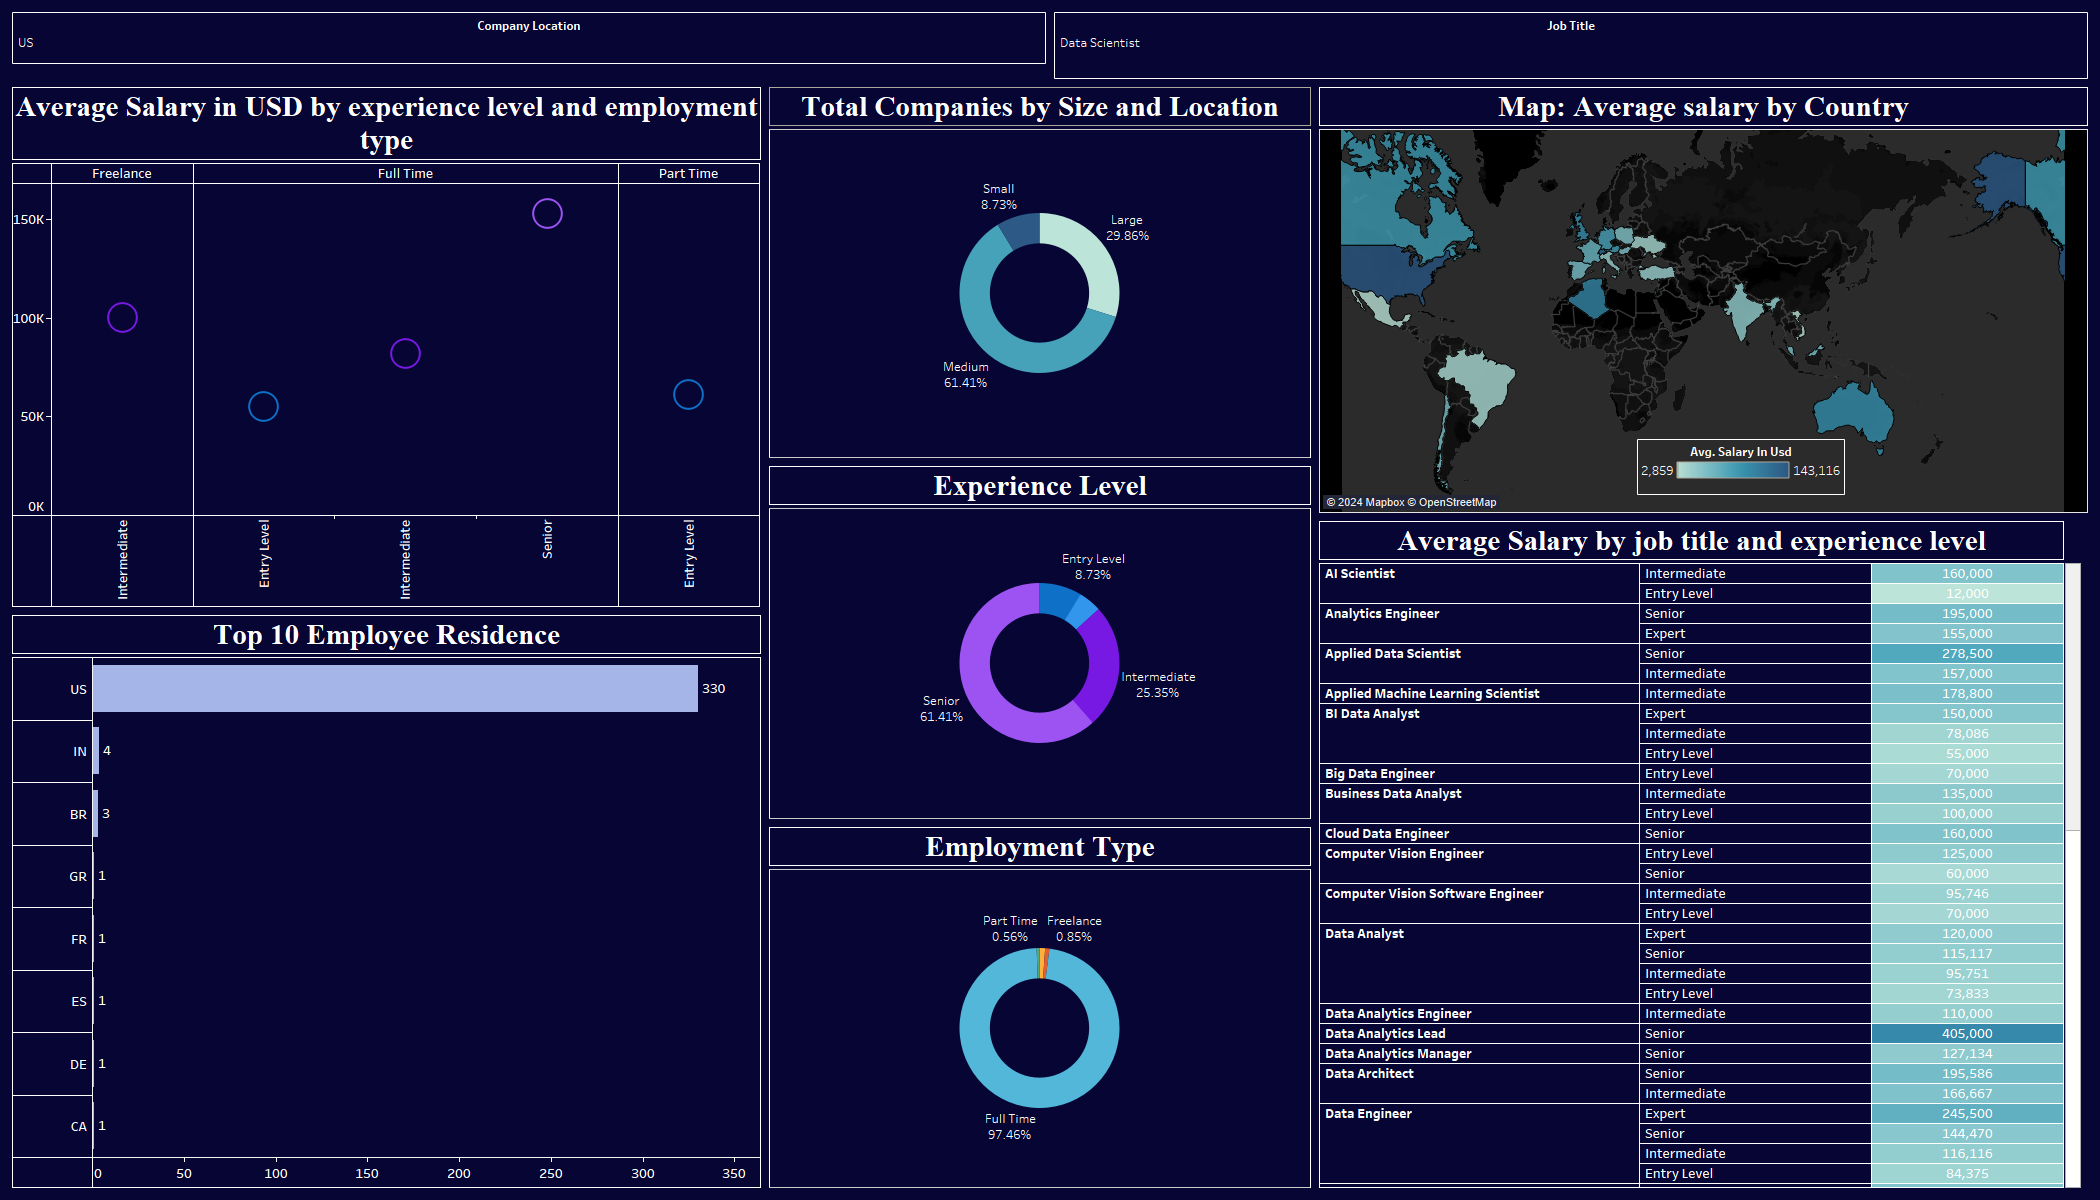

Layout of this report page (visuals, bound fields, positions):
{"tool":"tableau","page":{"name":"Dashboard 1","canvas":[2100,1200],"ordinal":0},"visuals":[{"type":"filter","title":"Total Companies by Size and Location","param":"[federated.1whmcna1xm0dt91dopcvz0w4l24t].[none:company_location:nk]","box":[8,8,1042,60]},{"type":"filter","title":"Map: Average salary by Country","param":"[federated.1whmcna1xm0dt91dopcvz0w4l24t].[none:job_title:nk]","box":[1050,8,1042,75]},{"type":"worksheet","title":"Average Salary in USD by experience level and employment type","mark":"Shape","rows":["salary_in_usd"],"cols":["employment_type","experience_level"],"box":[8,83,757,528]},{"type":"worksheet","title":"Total Companies by Size and Location","mark":"Pie","rows":["Calculation_501306945840168961","Calculation_501306945840168961"],"box":[765,83,550,379]},{"type":"worksheet","title":"Map: Average salary by Country","mark":"Automatic","box":[1315,83,777,434]},{"type":"legend","title":"Map: Average salary by Country","param":"[federated.1whmcna1xm0dt91dopcvz0w4l24t].[avg:salary_in_usd:qk]","box":[1637,439,208,56]},{"type":"worksheet","title":"Experience Level","mark":"Pie","rows":["Calculation_501306945840168961","Calculation_501306945840168961"],"box":[765,462,550,361]},{"type":"worksheet","title":"Average Salary by job title and experience level","mark":"Square","rows":["job_title","experience_level"],"box":[1315,517,777,675]},{"type":"worksheet","title":"Top 10 Employee Residence","mark":"Automatic","rows":["employee_residence"],"cols":["employee_residence"],"box":[8,611,757,581]},{"type":"worksheet","title":"Employment Type","mark":"Pie","rows":["Calculation_501306945840168961","Calculation_501306945840168961"],"box":[765,823,550,369]}]}

Visuals, with their boxes in screenshot pixels (x1, y1, x2, y2), scaled from the page's 2100x1200 canvas onto the 2100x1200 screenshot:
"Total Companies by Size and Location" filter: (x1=8, y1=8, x2=1050, y2=68)
"Map: Average salary by Country" filter: (x1=1050, y1=8, x2=2092, y2=83)
"Average Salary in USD by experience level and employment type" worksheet (Shape marks): (x1=8, y1=83, x2=765, y2=611)
"Total Companies by Size and Location" worksheet (Pie marks): (x1=765, y1=83, x2=1315, y2=462)
"Map: Average salary by Country" worksheet: (x1=1315, y1=83, x2=2092, y2=517)
"Map: Average salary by Country" legend: (x1=1637, y1=439, x2=1845, y2=495)
"Experience Level" worksheet (Pie marks): (x1=765, y1=462, x2=1315, y2=823)
"Average Salary by job title and experience level" worksheet (Square marks): (x1=1315, y1=517, x2=2092, y2=1192)
"Top 10 Employee Residence" worksheet: (x1=8, y1=611, x2=765, y2=1192)
"Employment Type" worksheet (Pie marks): (x1=765, y1=823, x2=1315, y2=1192)
